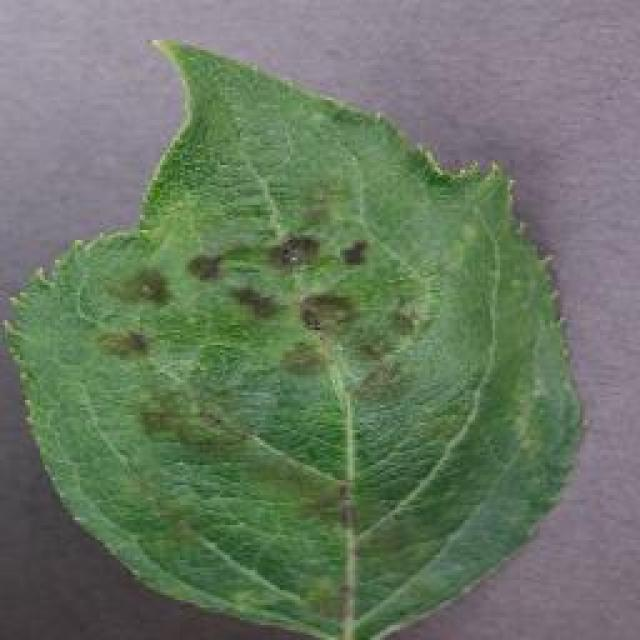apple scab disease: (0, 35, 588, 637)
